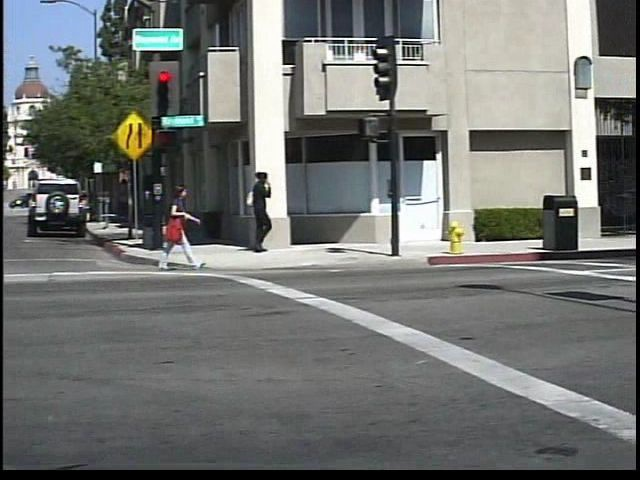person: (164, 182, 215, 273), (246, 169, 288, 255)
